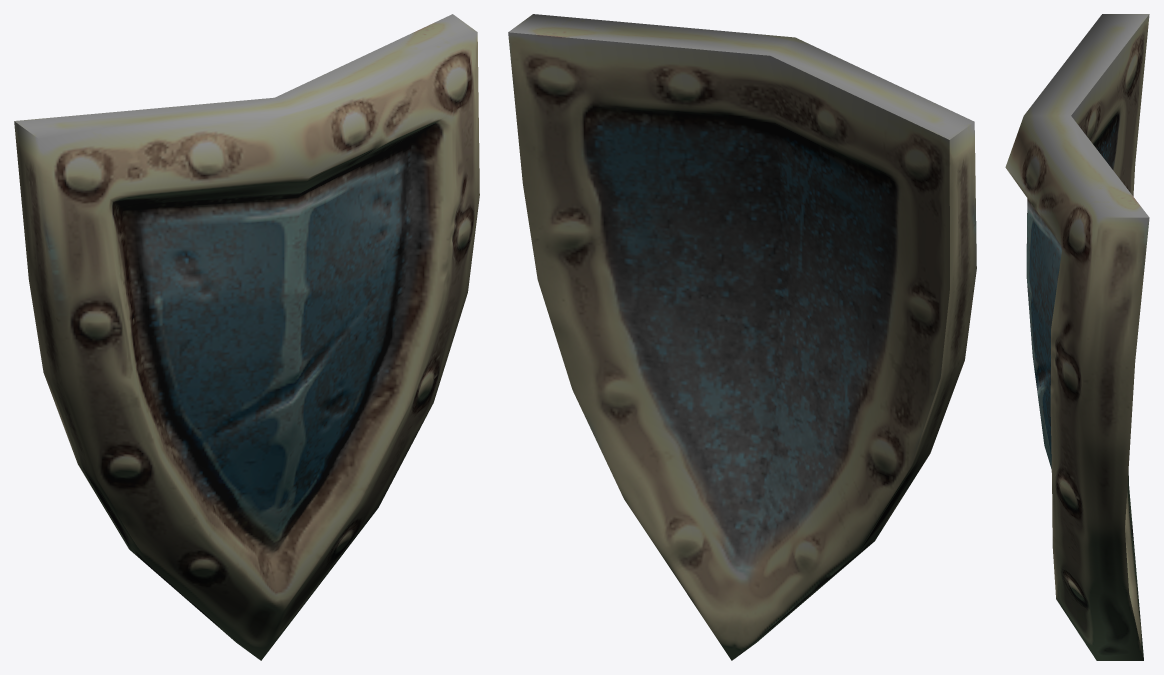
The model's file is shield_1.fbx.
3 renders of one model, left to right at view 1: azimuth 30°, elevation 25°; view 2: azimuth 150°, elevation 25°; view 3: azimuth 270°, elevation 25°, orthographic. The views are drawn at different scales.
Parts seen in each view (by area): view 1: shield_1; view 2: shield_1; view 3: shield_1.
Boxes of the visible parts, x1,y1,x2,y2 form: shield_1: [14, 14, 479, 660]; shield_1: [508, 14, 976, 660]; shield_1: [1005, 14, 1149, 660].
Size of the model in its own units: 0.8323 by 1.04 by 0.249.
